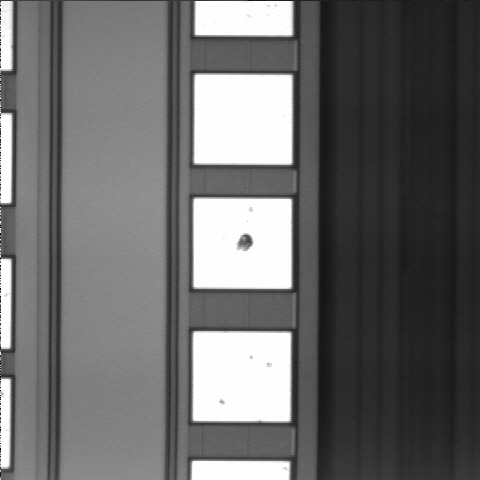pad: (194, 198, 292, 289), (194, 75, 292, 165), (193, 331, 291, 421)
